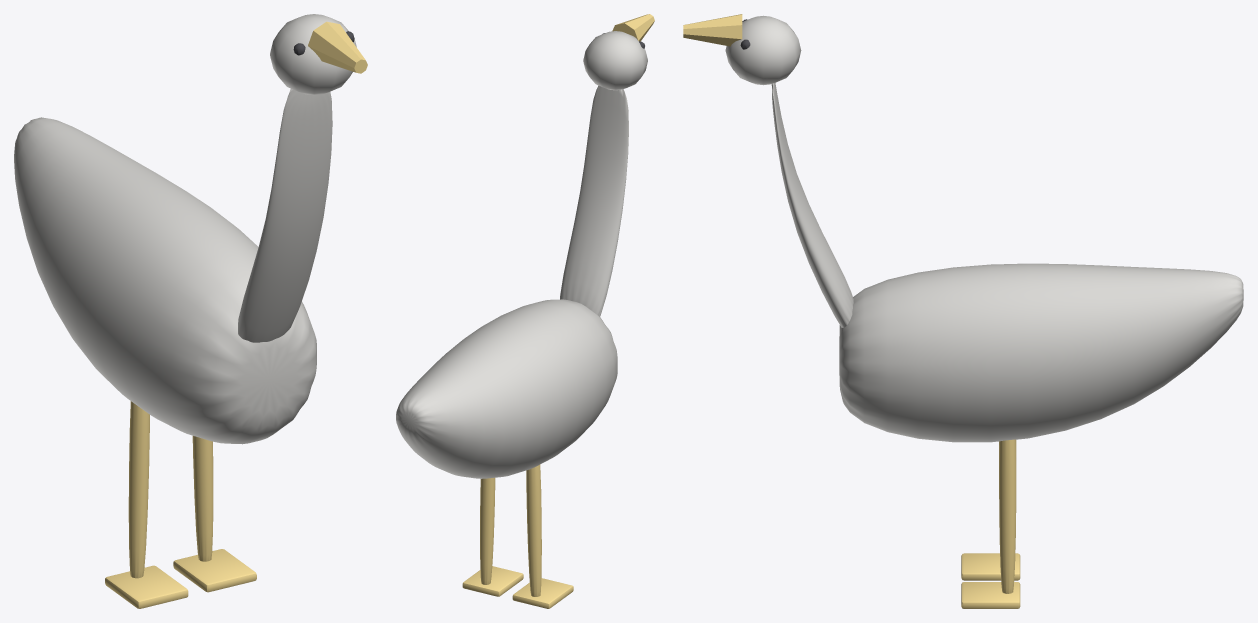
File: goose.glb
3 views of the same model, side by side, from view 1: azimuth 30°, elevation 25°; view 2: azimuth 150°, elevation 25°; view 3: azimuth 270°, elevation 25° (orthographic). The views are drawn at different scales.
Visible parts, largest first — view 1: goose; view 2: goose; view 3: goose.
Boxes of the visible parts, x1,y1,x2,y2 form: goose: (14,14,367,608); goose: (396,14,654,608); goose: (683,14,1243,608).
Size of what is drawn, in the model's own units: 0.1949 by 0.747 by 0.665.
